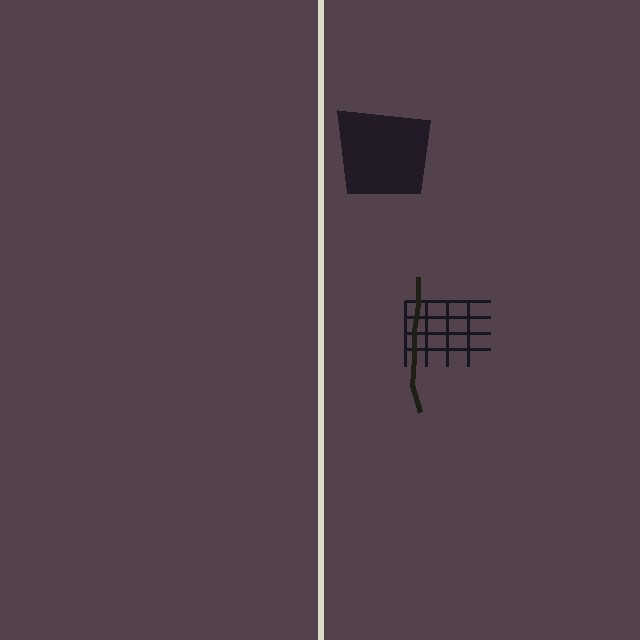alligator_crack: (405, 301, 490, 366)
damaged_surface: (337, 110, 430, 193)
longitudinal_crack: (415, 277, 486, 414)
